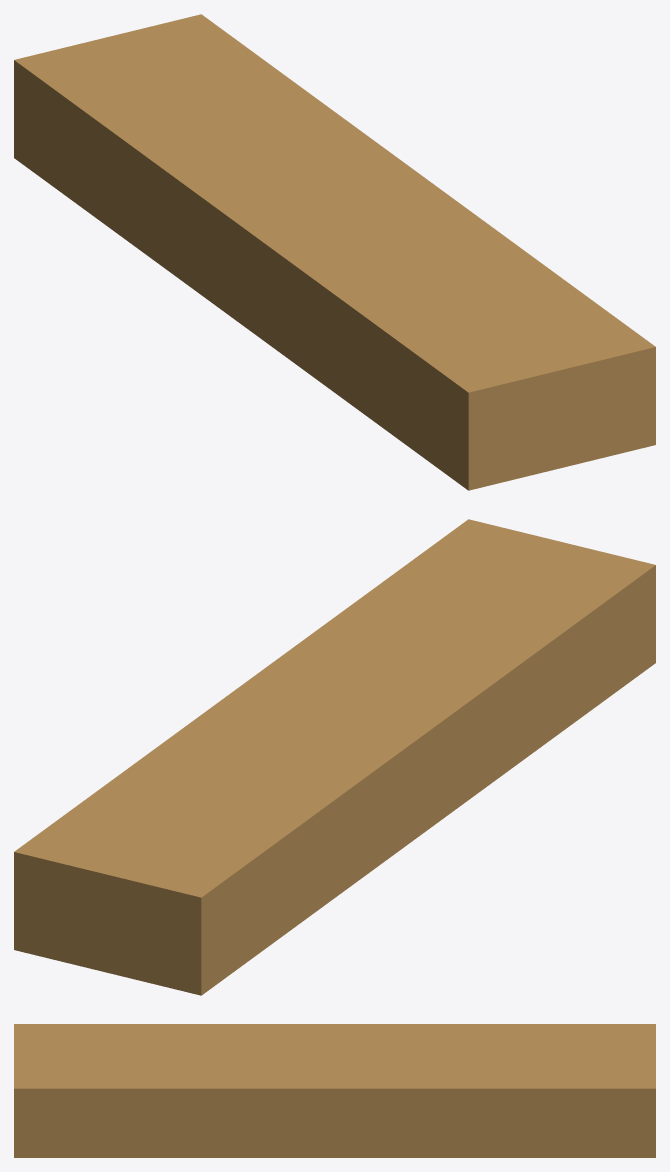
The picture shows the model from 3 angles, top to bottom: view 1: azimuth 30°, elevation 25°; view 2: azimuth 150°, elevation 25°; view 3: azimuth 270°, elevation 25°; orthographic projection. The views are drawn at different scales.
Visible parts, largest first — view 1: RUN-084-S00-NOG-14; view 2: RUN-084-S00-NOG-14; view 3: RUN-084-S00-NOG-14.
Part boxes in pixels (bbox=[...]): RUN-084-S00-NOG-14: bbox=[14, 14, 655, 490]; RUN-084-S00-NOG-14: bbox=[14, 519, 655, 995]; RUN-084-S00-NOG-14: bbox=[14, 1024, 655, 1157].
Size of the model in its own units: 0.09 by 0.045 by 0.378.
